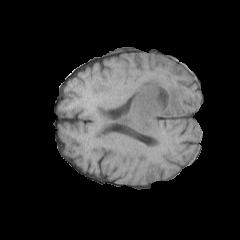glioma: (115, 76, 186, 141)
